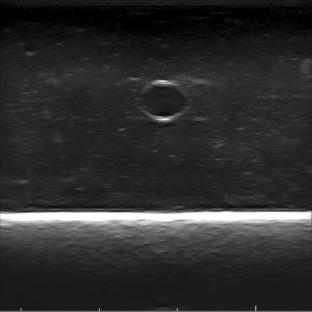vessel: (138, 79, 190, 122)
